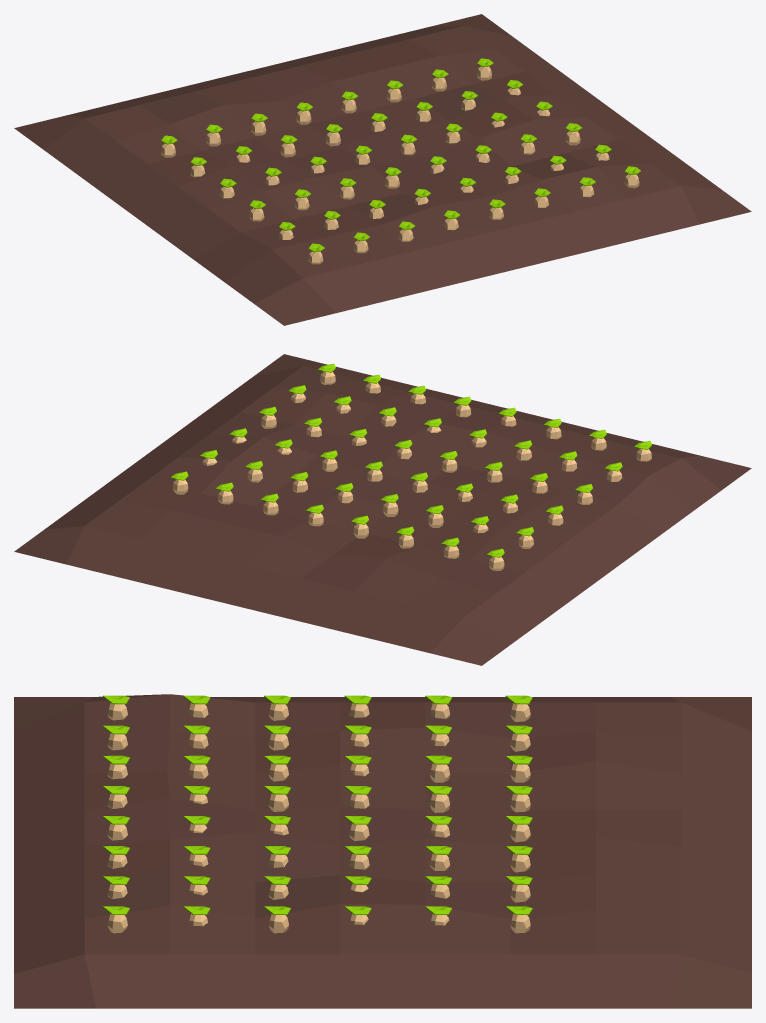
File: PotatoFarm.fbx
3 renders of one model, top to bottom at view 1: azimuth 30°, elevation 25°; view 2: azimuth 150°, elevation 25°; view 3: azimuth 270°, elevation 25°, orthographic. The views are drawn at different scales.
Visible parts, largest first — view 1: Plane.006; view 2: Plane.006; view 3: Plane.006.
Boxes of the visible parts, bbox=[...] form: Plane.006: bbox=[14, 14, 751, 325]; Plane.006: bbox=[14, 354, 751, 665]; Plane.006: bbox=[14, 694, 751, 1008].
Size of the model in its own units: 2457 by 175 by 2457.
